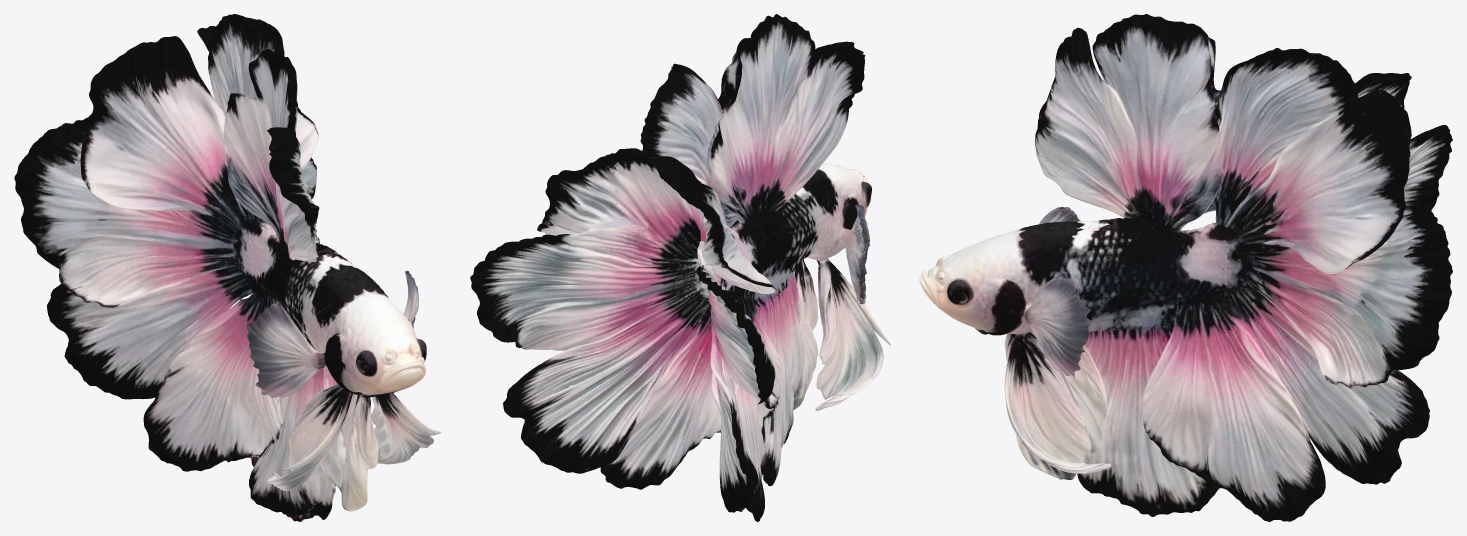
The picture shows the model from 3 angles, left to right: view 1: azimuth 30°, elevation 25°; view 2: azimuth 150°, elevation 25°; view 3: azimuth 270°, elevation 25°; orthographic projection. The views are drawn at different scales.
Parts seen in each view (by area): view 1: mesh_0; view 2: mesh_0; view 3: mesh_0.
Boxes of the visible parts, x1,y1,x2,y2 form: mesh_0: [14, 14, 441, 521]; mesh_0: [470, 14, 890, 521]; mesh_0: [919, 14, 1452, 521].
Bounding box in the file's own units: 1.21 × 1.9 × 1.85.
Materials: 1 (1 with a texture image).
